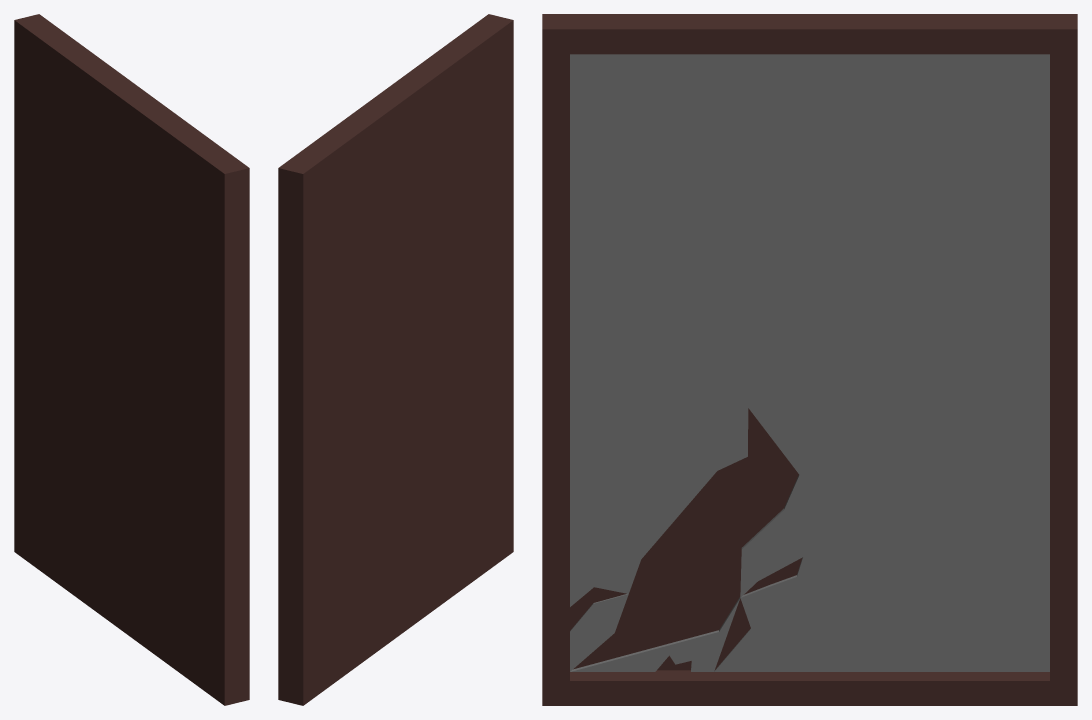
The model's file is mirror.fbx.
The picture shows the model from 3 angles, left to right: view 1: azimuth 30°, elevation 25°; view 2: azimuth 150°, elevation 25°; view 3: azimuth 270°, elevation 25°; orthographic projection. The views are drawn at different scales.
Visible parts, largest first — view 1: Cube.001; view 2: Cube.001; view 3: Cube.001.
Boxes of the visible parts, x1=… form: Cube.001: x1=14, y1=14, x2=249, y2=705; Cube.001: x1=278, y1=14, x2=513, y2=705; Cube.001: x1=542, y1=14, x2=1077, y2=705.
Size of the model in its own units: 4.13 by 84.27 by 60.44.
